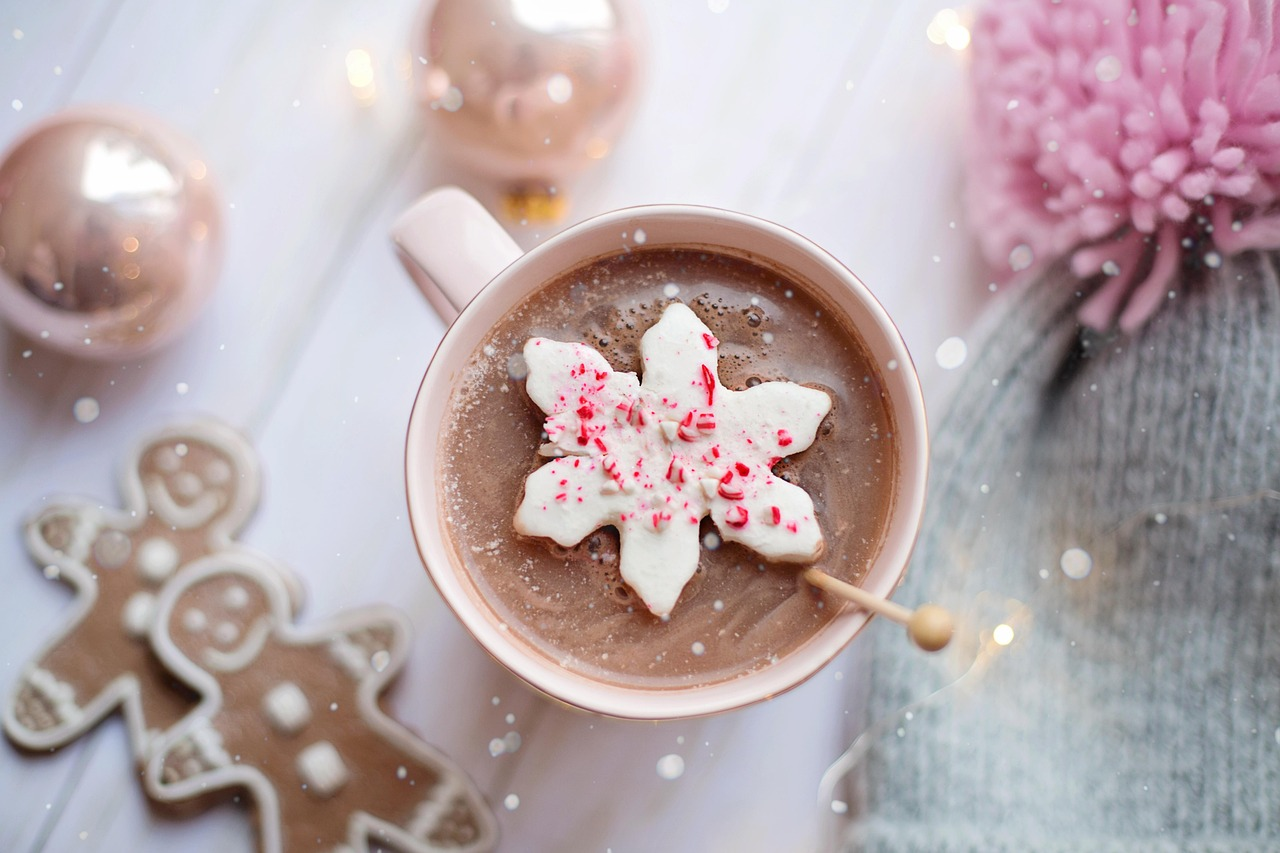mug: (362, 158, 957, 771)
